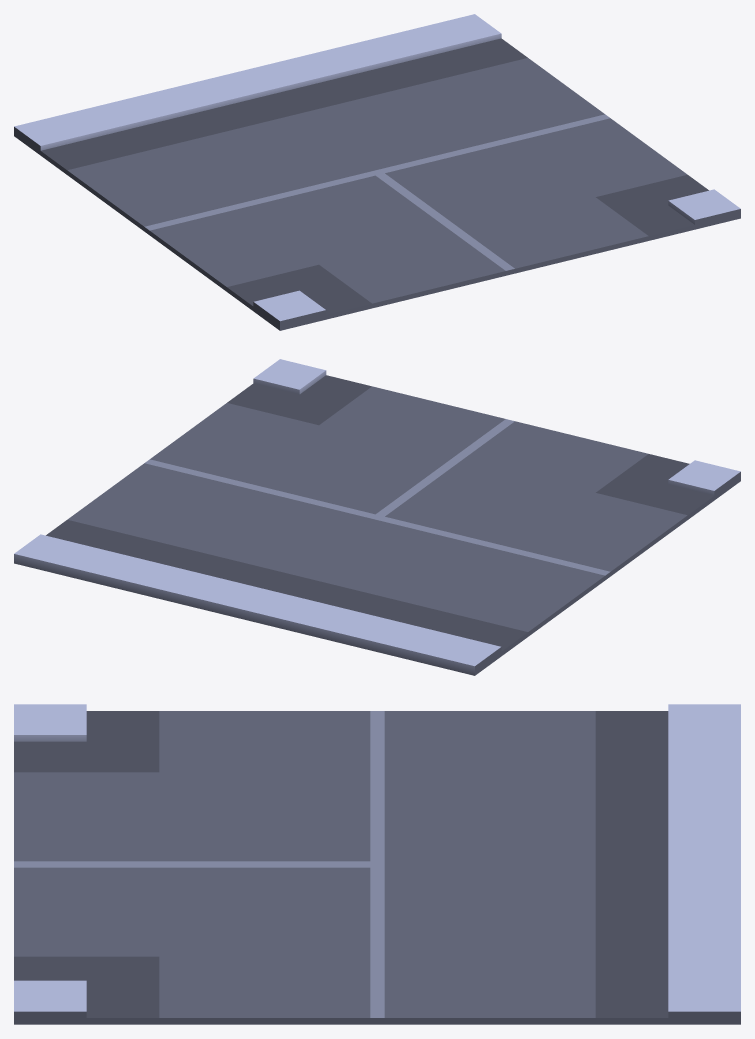
File: road-intersection-line.fbx
3 renders of one model, top to bottom at view 1: azimuth 30°, elevation 25°; view 2: azimuth 150°, elevation 25°; view 3: azimuth 270°, elevation 25°, orthographic. The views are drawn at different scales.
Visible parts, largest first — view 1: road-intersection-line; view 2: road-intersection-line; view 3: road-intersection-line.
Boxes of the visible parts, x1,y1,x2,y2 form: road-intersection-line: [14, 14, 740, 330]; road-intersection-line: [14, 359, 740, 675]; road-intersection-line: [14, 704, 740, 1024].
Size of the model in its own units: 100 by 2 by 100.
